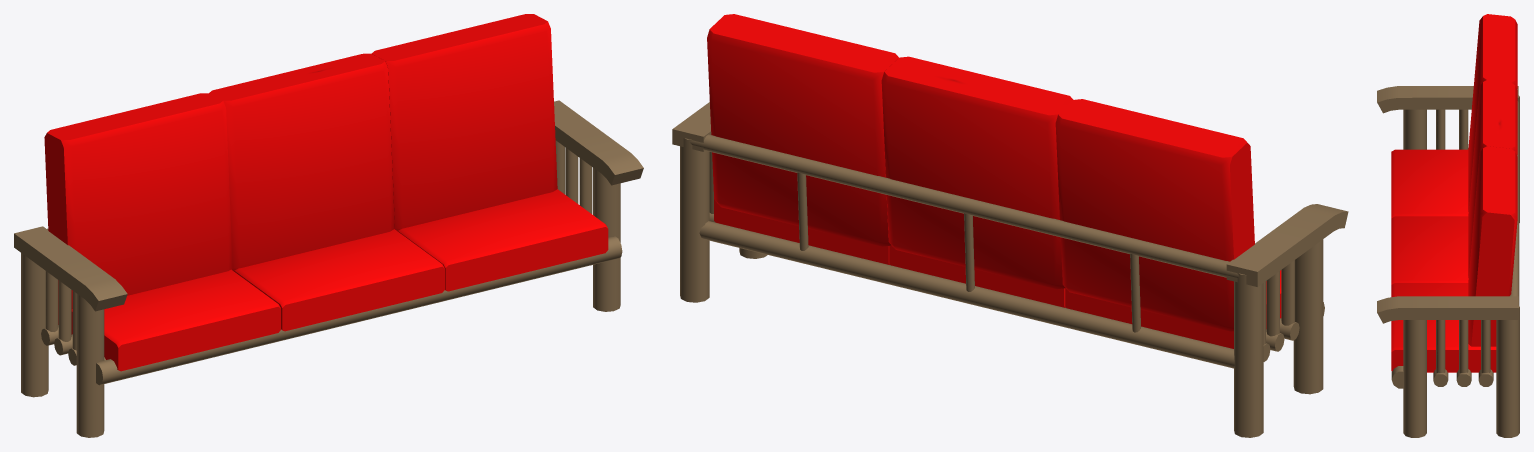
Rendered from Sofa.fbx.
3 renders of one model, left to right at view 1: azimuth 30°, elevation 25°; view 2: azimuth 150°, elevation 25°; view 3: azimuth 270°, elevation 25°, orthographic. The views are drawn at different scales.
Visible parts, largest first — view 1: Sofa; view 2: Sofa; view 3: Sofa.
Boxes of the visible parts, x1,y1,x2,y2 form: Sofa: [14, 14, 643, 437]; Sofa: [672, 14, 1348, 437]; Sofa: [1377, 14, 1519, 437].
Size of the model in its own units: 174 by 78.39 by 47.19.
